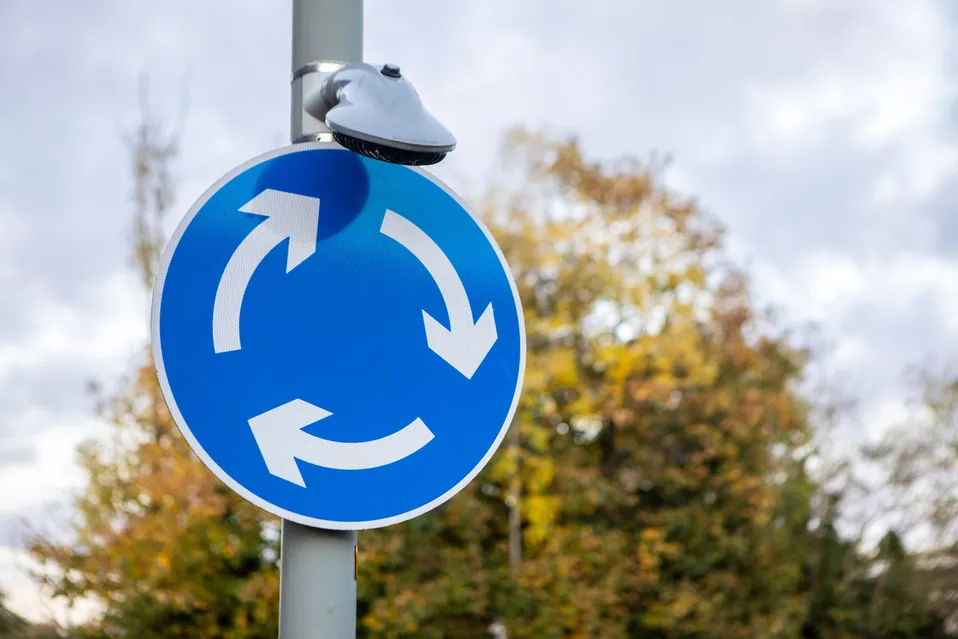roundabout: (138, 116, 556, 560)
